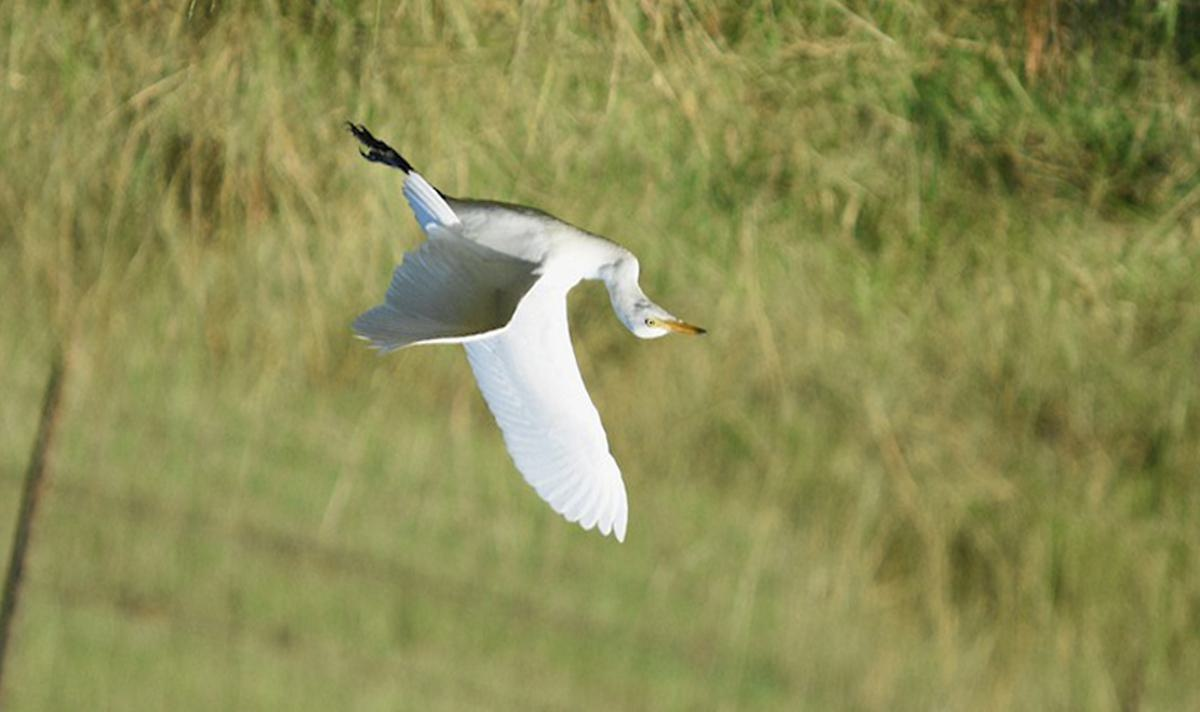egret: (358, 124, 707, 554)
